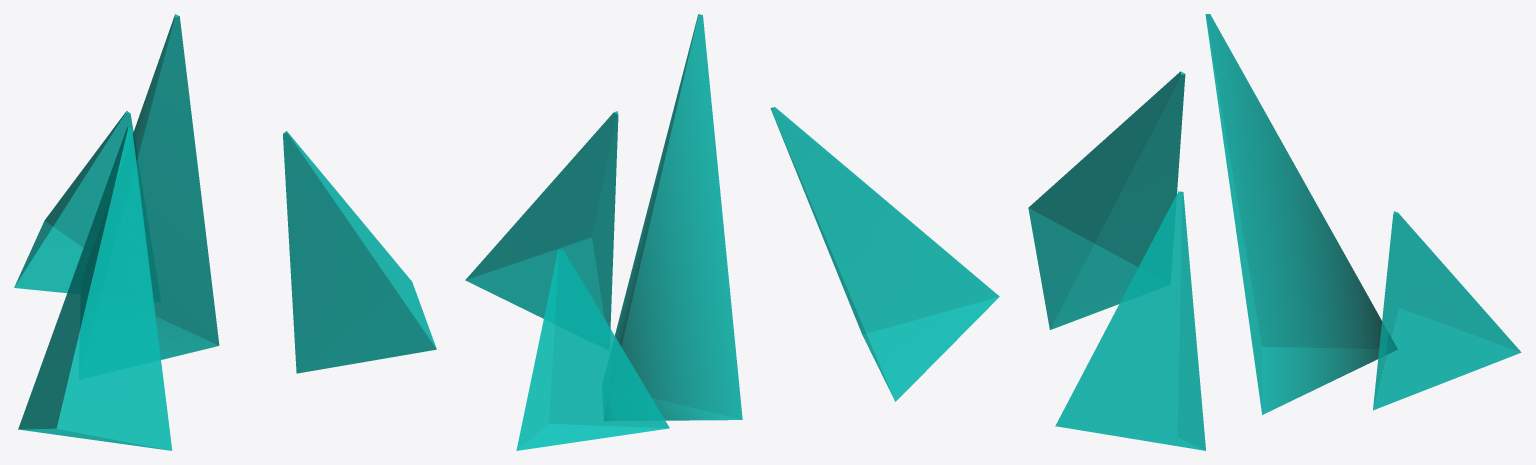
The model's file is shards.glb.
3 renders of one model, left to right at view 1: azimuth 30°, elevation 25°; view 2: azimuth 150°, elevation 25°; view 3: azimuth 270°, elevation 25°, orthographic.
Parts seen in each view (by area): view 1: shards; view 2: shards; view 3: shards.
Boxes of the visible parts, box(x1,y1,x2,y2) form: shards: box(14, 14, 436, 450); shards: box(465, 14, 999, 450); shards: box(1028, 14, 1521, 450).
Bounding box in the file's own units: 0.1643 × 0.1318 × 0.1583.
Materials: 1 (1 with a texture image).
